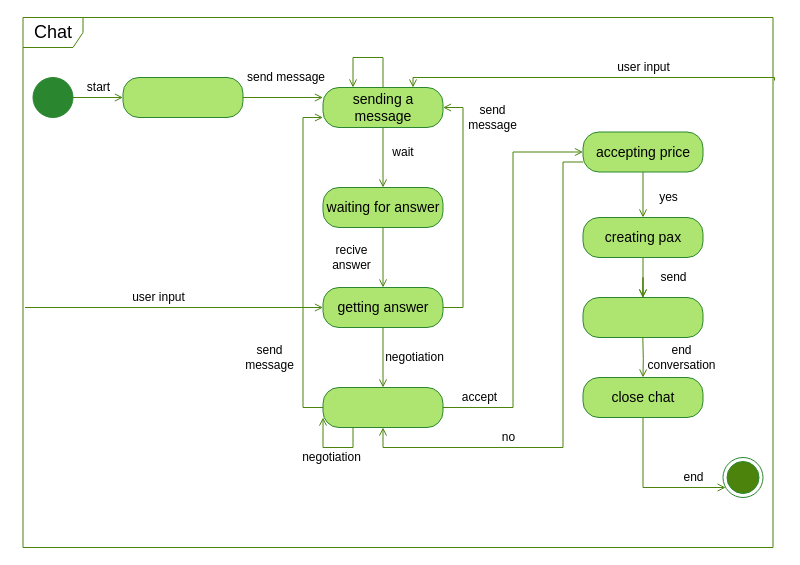
Image size: 800x565. Some labels were removed from this diagram. Each missing label, with the box of its shape:
negotiating price: (322, 386, 443, 428)
open chat: (122, 76, 243, 118)
sending pax: (582, 296, 703, 338)
